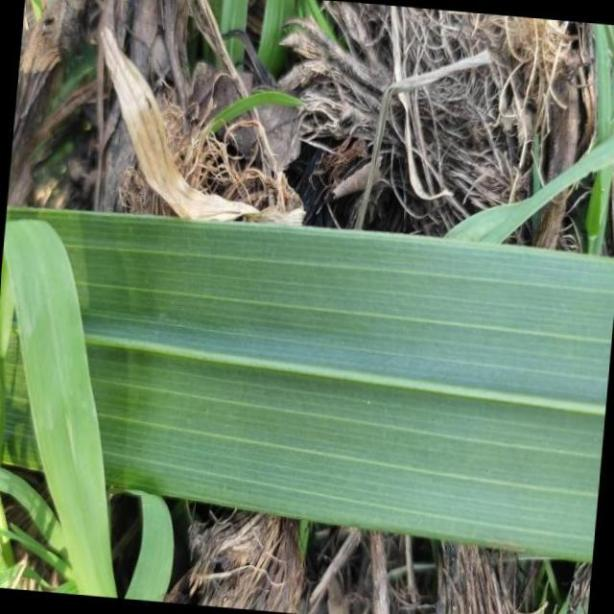Healthy: (0, 199, 614, 564)
